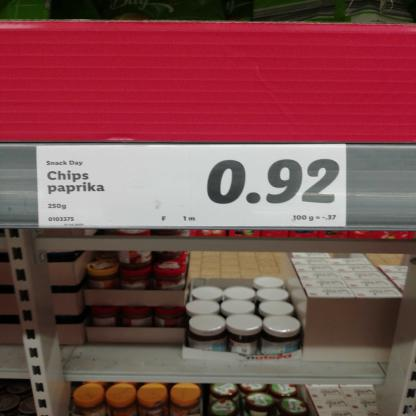prtg: (38, 145, 347, 228)
